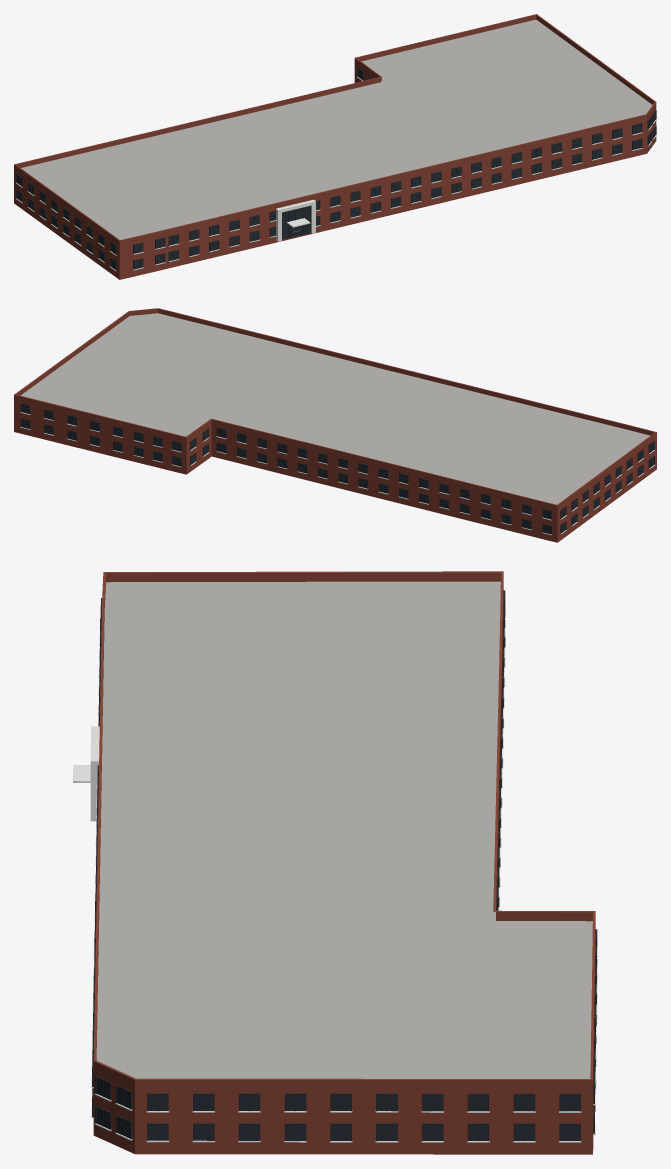
Rendered from waterview_science_and_technology_center.glb.
3 views of the same model, one above another, from view 1: azimuth 30°, elevation 25°; view 2: azimuth 150°, elevation 25°; view 3: azimuth 270°, elevation 25° (orthographic). The views are drawn at different scales.
Parts seen in each view (by area): view 1: waterview_science_and_technology_center_Roof_Membrane, waterview_science_and_technology_center_Wall_redBrick, waterview_science_and_technology_center_Glass_dark, waterview_science_and_technology_center_Frame_Dark, waterview_science_and_technology_center_Trim_White; view 2: waterview_science_and_technology_center_Roof_Membrane, waterview_science_and_technology_center_Wall_redBrick, waterview_science_and_technology_center_Glass_dark, waterview_science_and_technology_center_Frame_Dark, waterview_science_and_technology_center_Trim_White; view 3: waterview_science_and_technology_center_Roof_Membrane, waterview_science_and_technology_center_Wall_redBrick, waterview_science_and_technology_center_Glass_dark, waterview_science_and_technology_center_Frame_Dark, waterview_science_and_technology_center_Trim_White.
Part boxes in pixels (x1,y1,x2,y2): waterview_science_and_technology_center_Roof_Membrane: (21,19,652,239); waterview_science_and_technology_center_Wall_redBrick: (14,14,656,279); waterview_science_and_technology_center_Glass_dark: (17,69,655,269); waterview_science_and_technology_center_Frame_Dark: (16,67,656,270); waterview_science_and_technology_center_Trim_White: (15,76,656,271); waterview_science_and_technology_center_Roof_Membrane: (21,313,649,504); waterview_science_and_technology_center_Wall_redBrick: (14,308,656,542); waterview_science_and_technology_center_Glass_dark: (21,404,654,534); waterview_science_and_technology_center_Frame_Dark: (20,403,654,534); waterview_science_and_technology_center_Trim_White: (20,412,654,535); waterview_science_and_technology_center_Roof_Membrane: (96,581,592,1078); waterview_science_and_technology_center_Wall_redBrick: (93,571,595,1154); waterview_science_and_technology_center_Glass_dark: (96,1078,579,1140); waterview_science_and_technology_center_Frame_Dark: (92,590,597,1141); waterview_science_and_technology_center_Trim_White: (73,607,597,1142).
Bounding box in the file's own units: 110 × 7.5 × 47.94.
